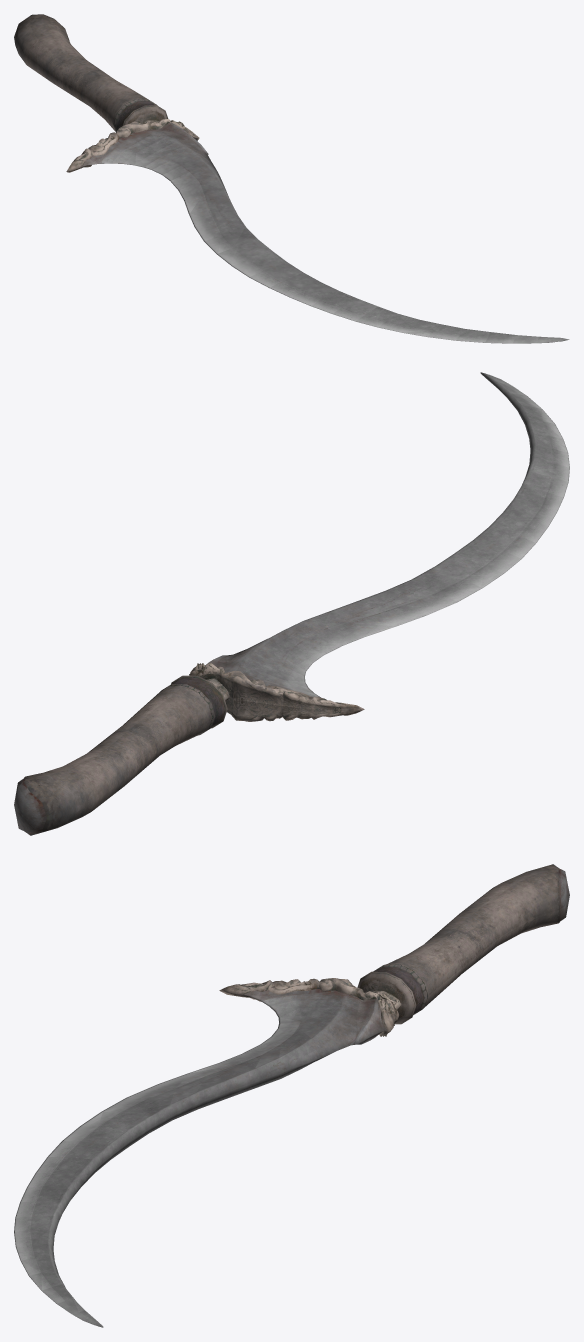
The picture shows the model from 3 angles, top to bottom: view 1: azimuth 30°, elevation 25°; view 2: azimuth 150°, elevation 25°; view 3: azimuth 330°, elevation 25°; orthographic projection. The views are drawn at different scales.
Visible parts, largest first — view 1: WP_A_0124; view 2: WP_A_0124; view 3: WP_A_0124.
Boxes of the visible parts, x1=… form: WP_A_0124: x1=14, y1=14, x2=569, y2=343; WP_A_0124: x1=14, y1=372, x2=569, y2=835; WP_A_0124: x1=14, y1=864, x2=569, y2=1327.
Bounding box in the file's own units: 14.44 × 2.79 × 54.9.
1 material, 1 textured.
